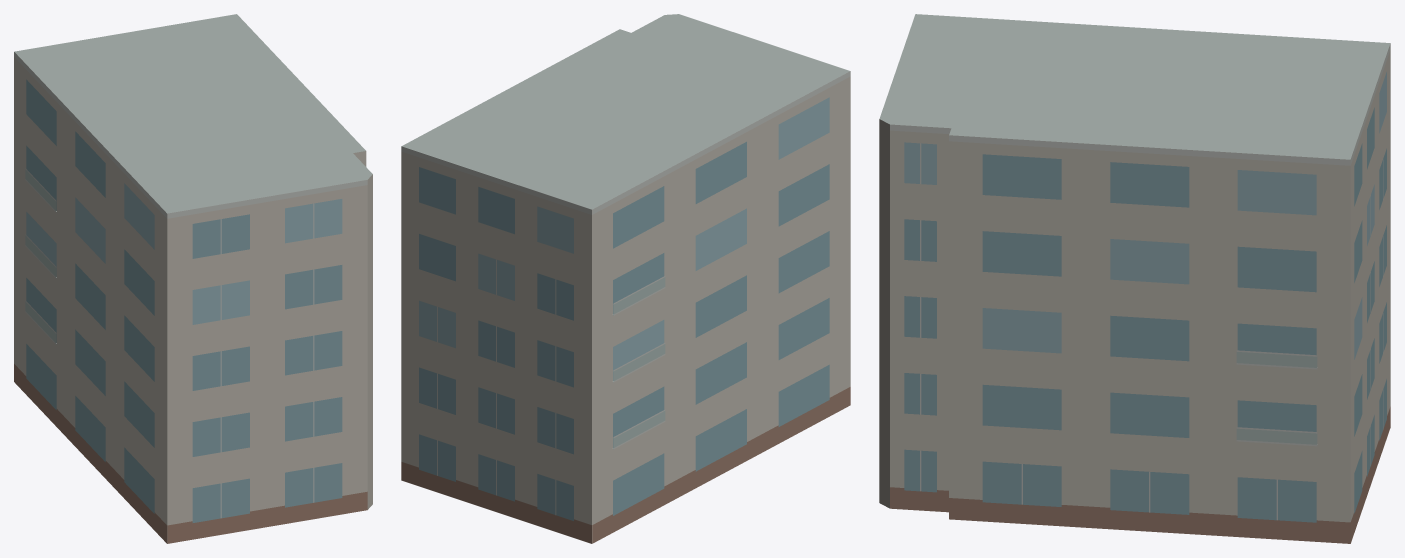
Rendered from survey-upis-32750939.glb.
The picture shows the model from 3 angles, left to right: view 1: azimuth 30°, elevation 25°; view 2: azimuth 150°, elevation 25°; view 3: azimuth 270°, elevation 25°; orthographic projection. The views are drawn at different scales.
Visible parts, largest first — view 1: survey-upis-32750939.tmp; view 2: survey-upis-32750939.tmp; view 3: survey-upis-32750939.tmp.
Part boxes in pixels (x1,y1,x2,y2): survey-upis-32750939.tmp: (14, 14, 372, 543); survey-upis-32750939.tmp: (401, 14, 850, 543); survey-upis-32750939.tmp: (879, 14, 1390, 543).
Size of the model in its own units: 12.57 by 15.44 by 18.63.
